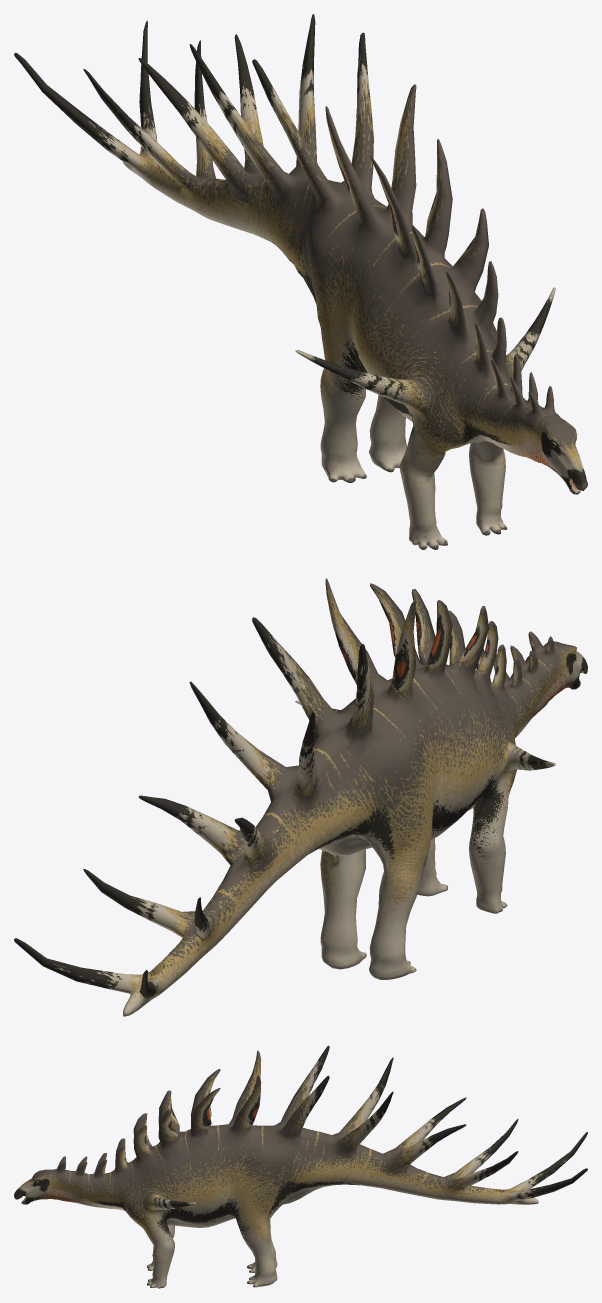
The model's file is Kentrosaurio.glb.
3 renders of one model, top to bottom at view 1: azimuth 30°, elevation 25°; view 2: azimuth 150°, elevation 25°; view 3: azimuth 270°, elevation 25°, orthographic. The views are drawn at different scales.
Parts seen in each view (by area): view 1: DW_Kentrosaurio_Adulto_Mayor_mesh; view 2: DW_Kentrosaurio_Adulto_Mayor_mesh; view 3: DW_Kentrosaurio_Adulto_Mayor_mesh.
Boxes of the visible parts, <box> form: DW_Kentrosaurio_Adulto_Mayor_mesh: <box>14,14,587,549</box>; DW_Kentrosaurio_Adulto_Mayor_mesh: <box>14,578,587,1016</box>; DW_Kentrosaurio_Adulto_Mayor_mesh: <box>14,1045,587,1288</box>.
Size of the model in its own units: 0.2982 by 0.4153 by 1.
Materials: 2 (2 with a texture image).
